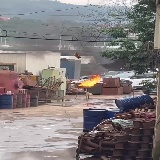fire: (78, 75, 100, 86)
